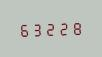eight: (70, 19, 82, 35)
six: (18, 21, 30, 37)
three: (31, 20, 43, 37)
two: (57, 19, 69, 36), (44, 20, 56, 36)
